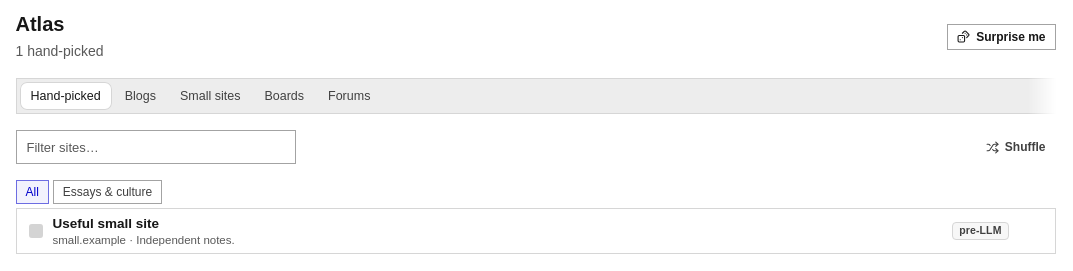
Scenario: Atlas public capabilities › retains public blog browsing without requesting crawl status
The width and height of the screenshot is (1073, 271).
Click the tab "Blogs". click: (140, 96)
box: [114,82,167,110]
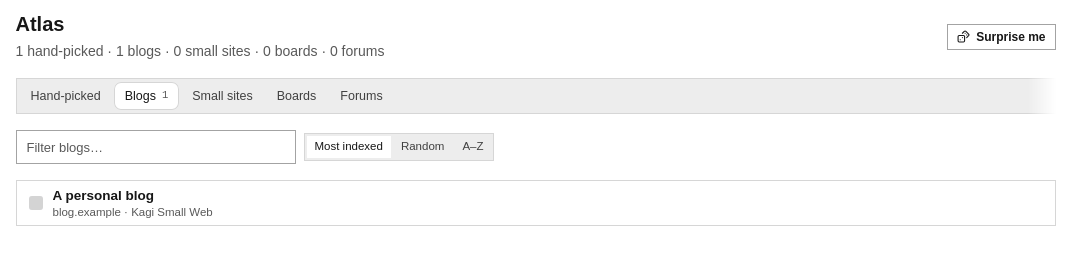
Result: the text "A personal blog" is shown at [52,188,154,203]
